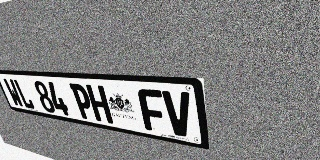4: (45, 81, 70, 116)
8: (32, 81, 57, 114)
F: (137, 88, 168, 134)
H: (85, 85, 113, 124)
L: (13, 79, 36, 110)
P: (69, 83, 96, 121)
V: (162, 90, 194, 138)
W: (3, 78, 25, 108)
